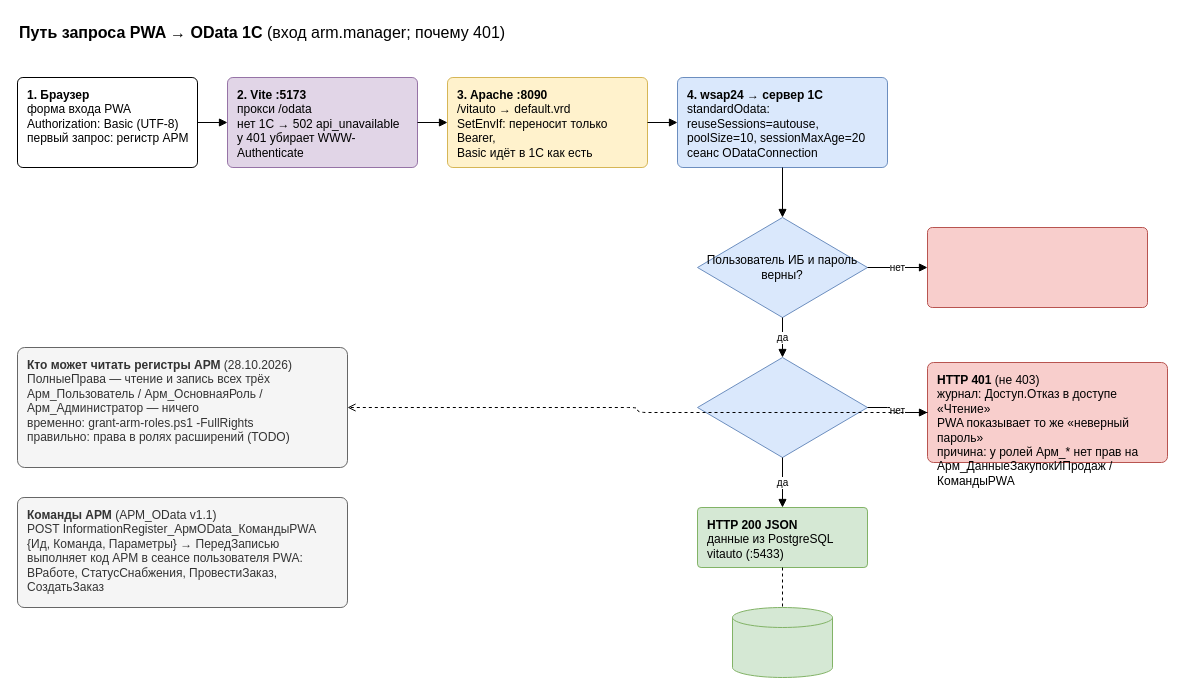
The diagram is 1185 pixels wide and 695 high, and some of its shapes have lost their labels. The box of each missing label's shape, as (x1, y1, x2, y2) in pixels:
HTTP 401 журнал: Сеанс.Ошибка аутентификации PWA: «неверный логин или пароль»: (926, 226, 1148, 308)
PostgreSQL vitauto: (732, 606, 832, 678)
Есть право «Чтение» на объект?: (696, 356, 868, 458)
